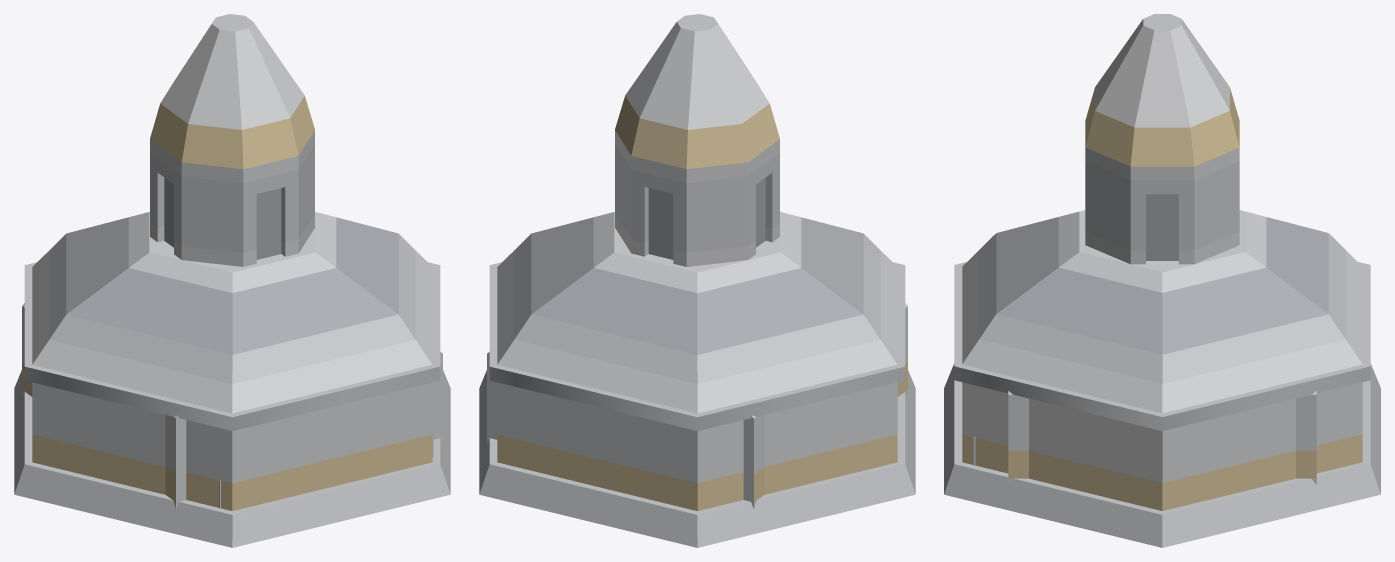
The model's file is mond.glb.
3 renders of one model, left to right at view 1: azimuth 30°, elevation 25°; view 2: azimuth 150°, elevation 25°; view 3: azimuth 270°, elevation 25°, orthographic.
Parts seen in each view (by area): view 1: hangarRound, rocket, hangarGlass, hangar; view 2: hangarRound, rocket, hangarGlass, hangar; view 3: hangarRound, rocket, hangarGlass, hangar.
Part boxes in pixels (<box>): hangarRound: <box>24,212,440,510</box>; rocket: <box>150,14,314,266</box>; hangarGlass: <box>14,370,450,547</box>; hangar: <box>22,303,442,508</box>; hangarRound: <box>489,212,905,509</box>; rocket: <box>615,14,779,266</box>; hangarGlass: <box>479,370,915,547</box>; hangar: <box>487,303,907,508</box>; hangarRound: <box>954,210,1370,510</box>; rocket: <box>1085,14,1239,264</box>; hangarGlass: <box>944,363,1380,547</box>; hangar: <box>1008,391,1316,484</box>.
Size of the model in its own units: 3.27 by 3 by 2.83.
